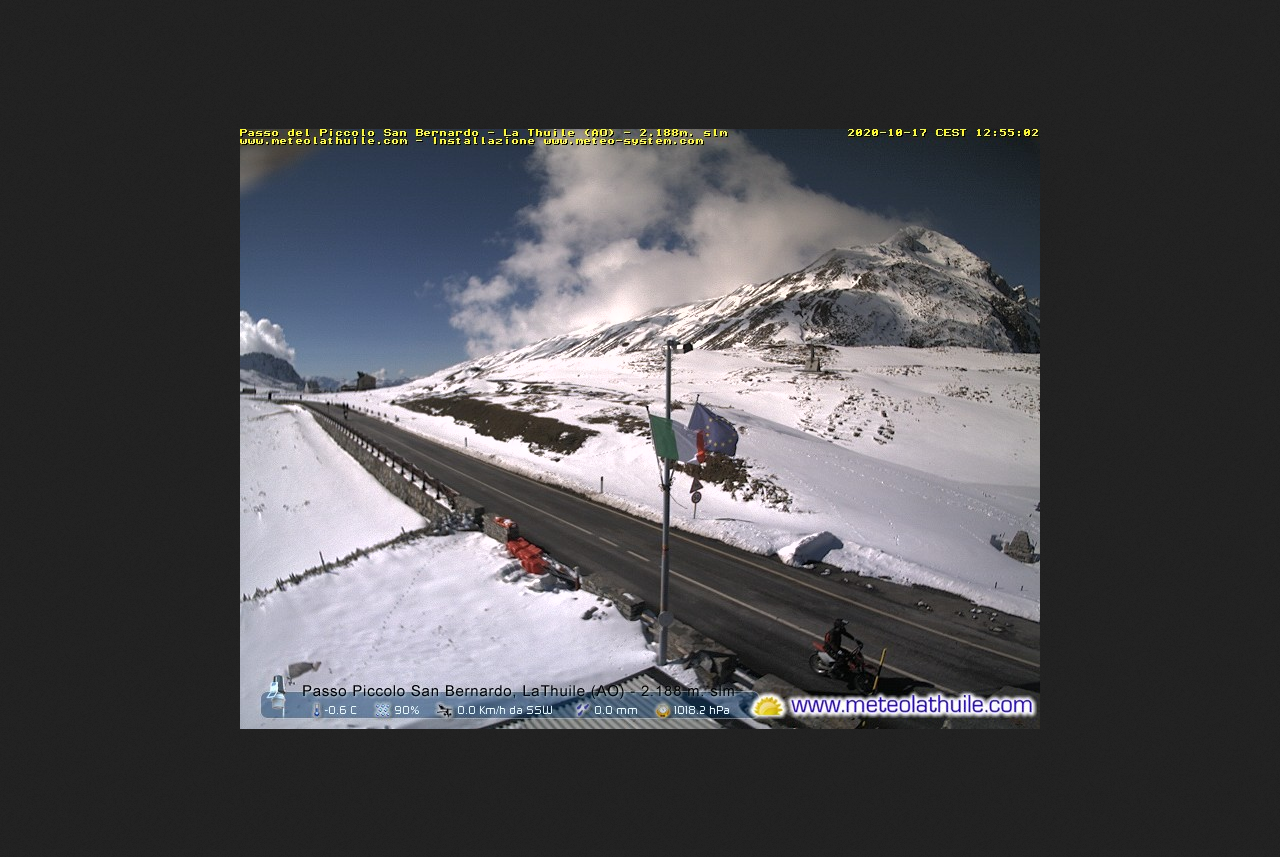yes: (647, 413, 712, 469), (695, 401, 740, 459)
